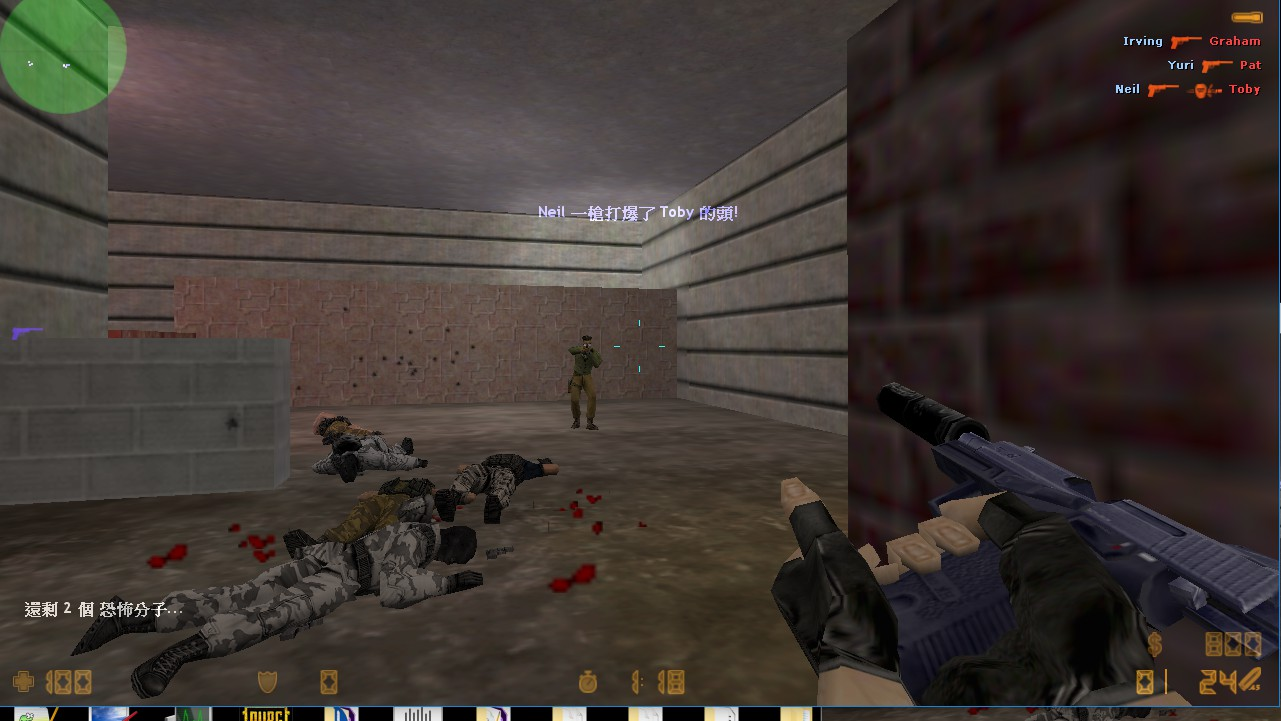person: (560, 327, 604, 433)
